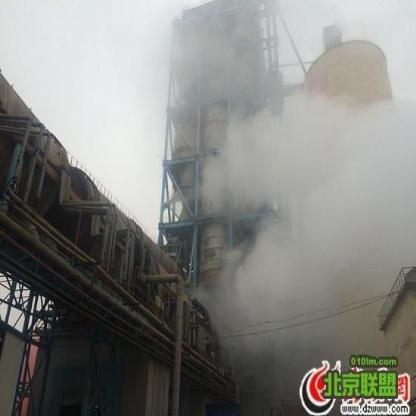smoke: (212, 76, 408, 350)
